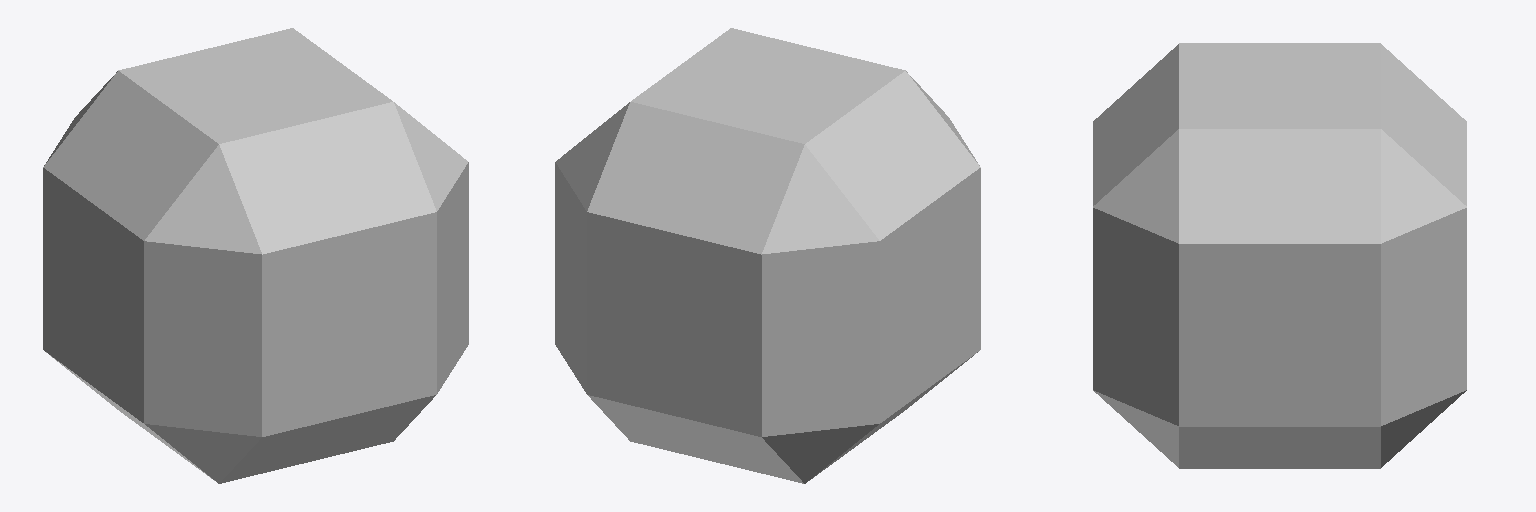
The model's file is insolabe.obj.
3 renders of one model, left to right at view 1: azimuth 30°, elevation 25°; view 2: azimuth 150°, elevation 25°; view 3: azimuth 270°, elevation 25°, orthographic.
Parts seen in each view (by area): view 1: Cube.009_Cube; view 2: Cube.009_Cube; view 3: Cube.009_Cube.
Part boxes in pixels (left/top/right/bottom): Cube.009_Cube: left=43, top=28, right=468, bottom=483; Cube.009_Cube: left=555, top=28, right=980, bottom=483; Cube.009_Cube: left=1093, top=43, right=1466, bottom=468.
Size of the model in its own units: 0.7 by 0.7 by 0.7.